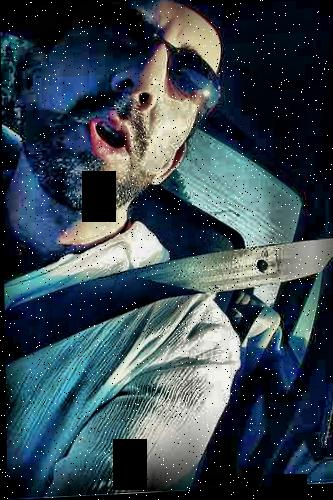seatbelt: (9, 232, 323, 356)
